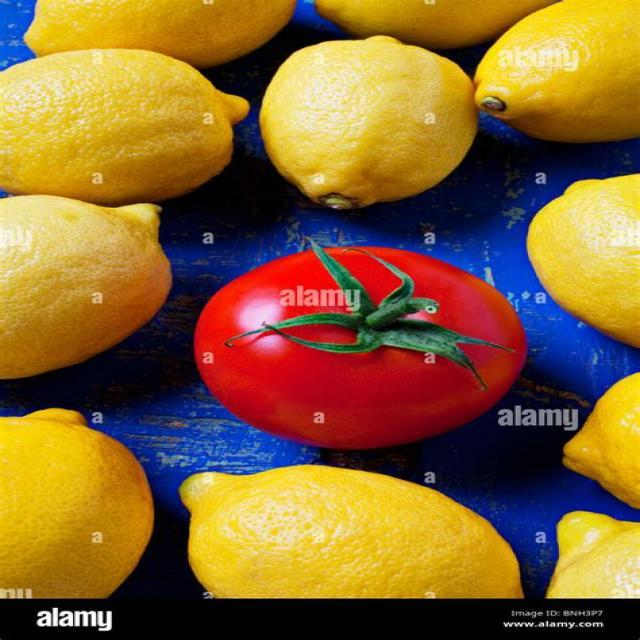Lemon: (176, 464, 532, 599), (0, 49, 249, 209), (258, 35, 481, 211), (0, 193, 173, 385), (0, 410, 156, 602), (473, 0, 640, 146), (525, 174, 640, 352), (22, 0, 298, 72), (311, 0, 563, 56), (561, 372, 640, 512), (547, 512, 640, 599)
Tomato: (193, 247, 526, 456)
